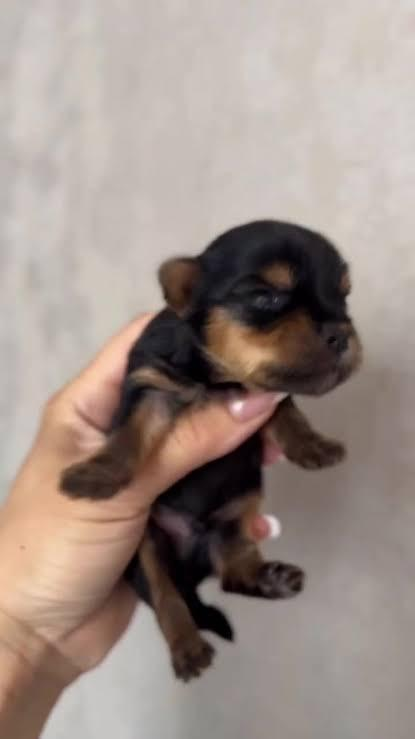puppy-dog: (56, 221, 365, 684)
